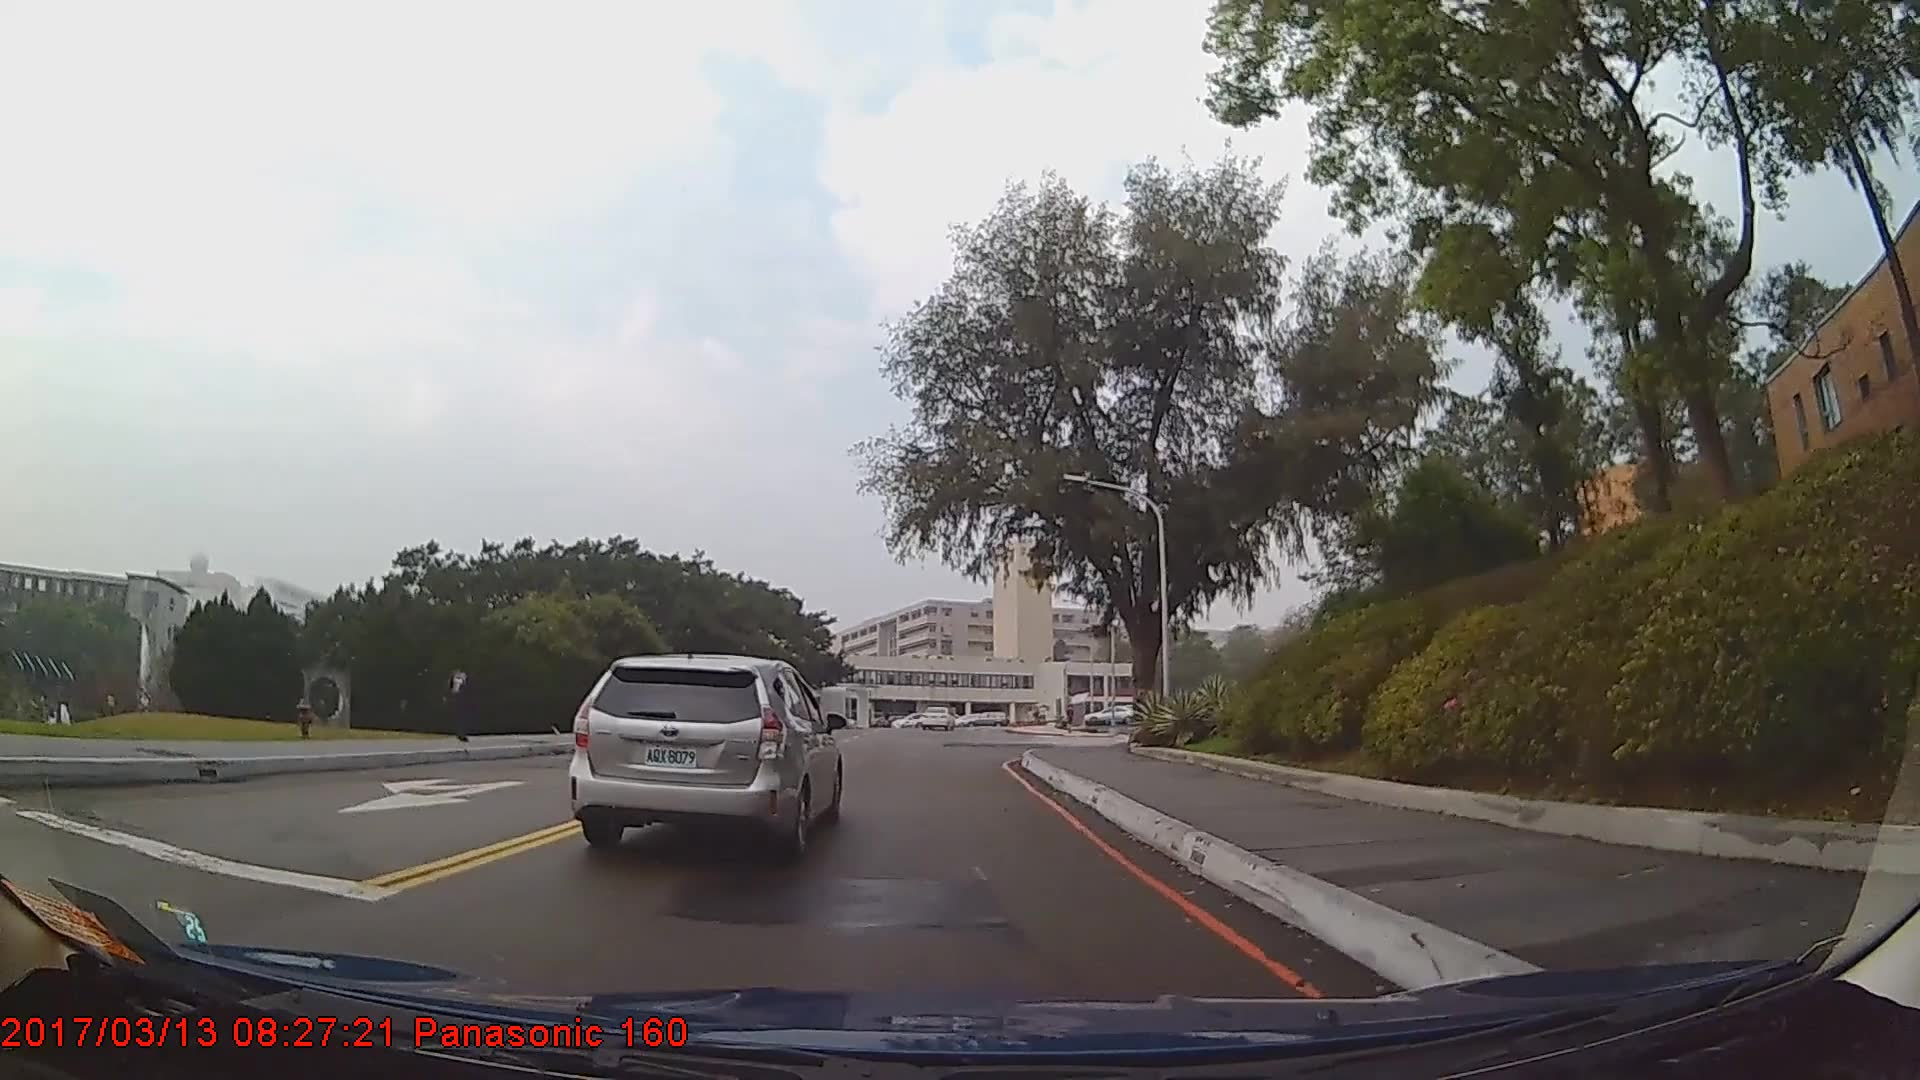pedestrian: (440, 652, 485, 753)
vehicle: (565, 650, 843, 861), (919, 705, 955, 732)
